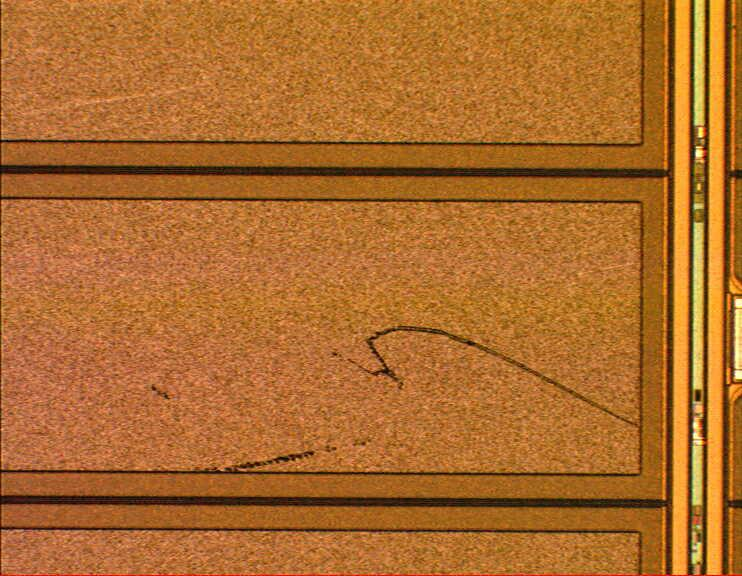SCRATCH: (144, 317, 648, 484)
